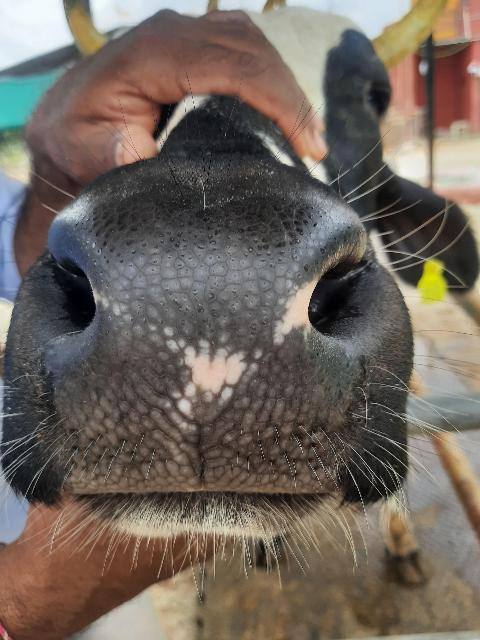Muzzle: (60, 207, 346, 486)
